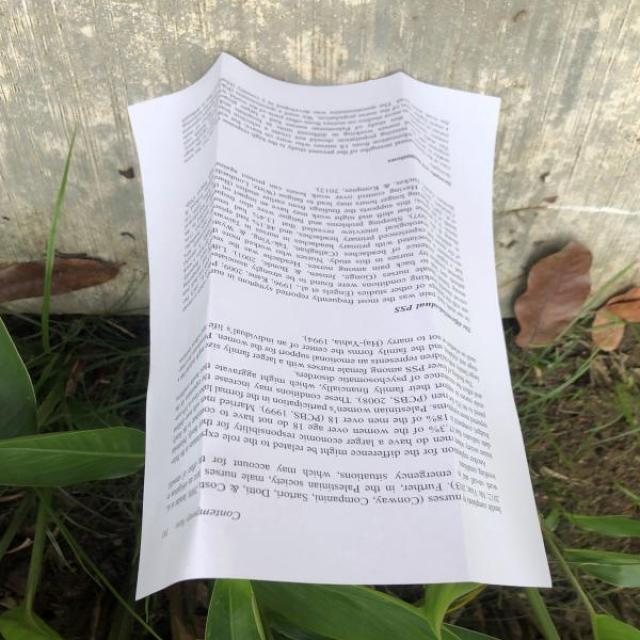kertas: (124, 46, 551, 597)
